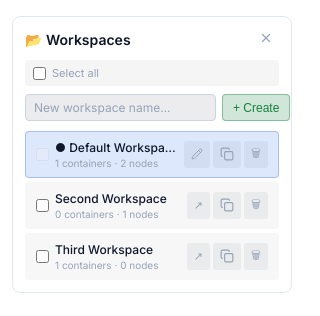
Test case: WorkspaceManager › deselect all unchecks all workspaces
What coordinates should you click on to do the following:
click the checkbox named "Select all workspaces"
I would click on:
 (40, 73)
Its box is [33,66,46,80].
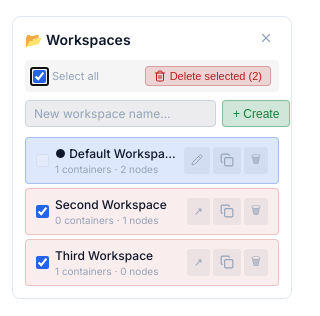
What coordinates should you click on to do the following:
click the checkbox named "Select all workspaces"
I would click on:
 (40, 76)
Its box is [33,70,46,82].
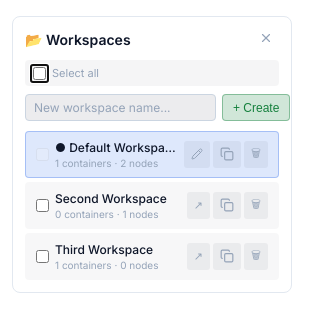
Check: the checkbox named "Select Second Workspace" is not checked, box [36,199,49,212]
Check: the checkbox named "Select Third Workspace" is not checked, box [36,250,49,263]
Check: the button "Delete selected" is gone
